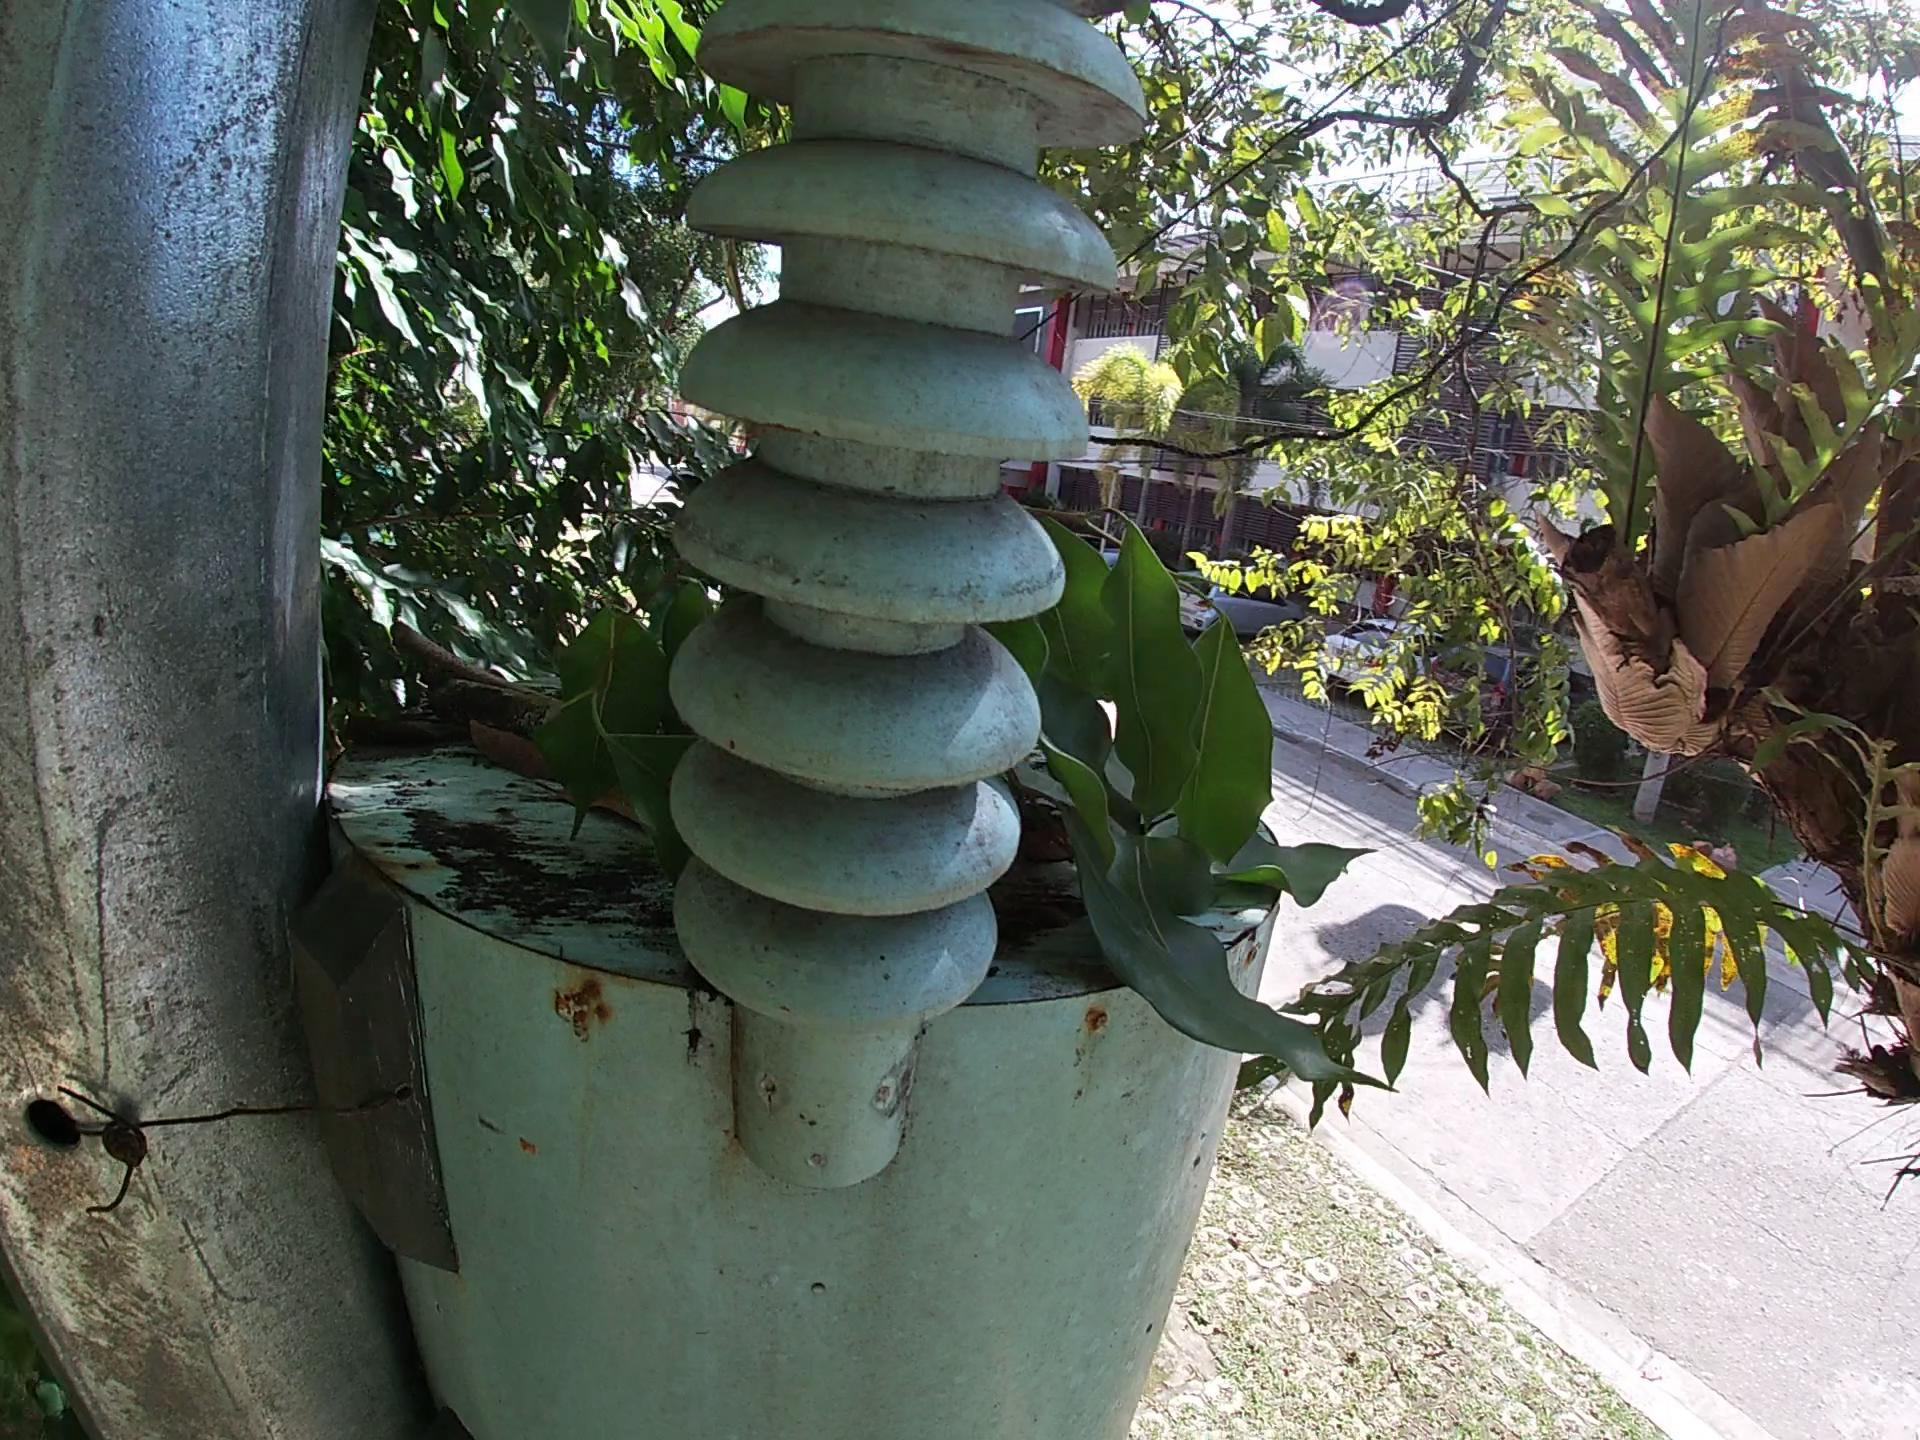branch with leaves: (971, 490, 1420, 1110)
leaf: (540, 537, 721, 895), (330, 687, 429, 764), (550, 781, 664, 833), (458, 714, 540, 771)
tree branch: (379, 617, 559, 688), (438, 681, 576, 771)
